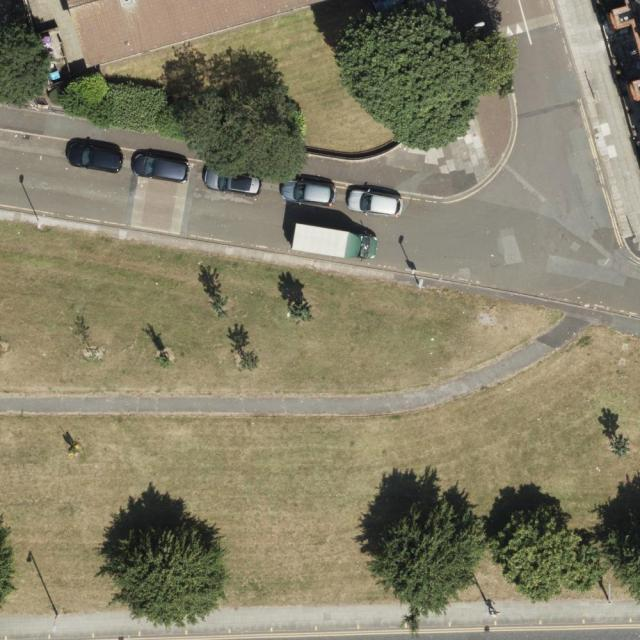roof: (64, 0, 335, 72)
